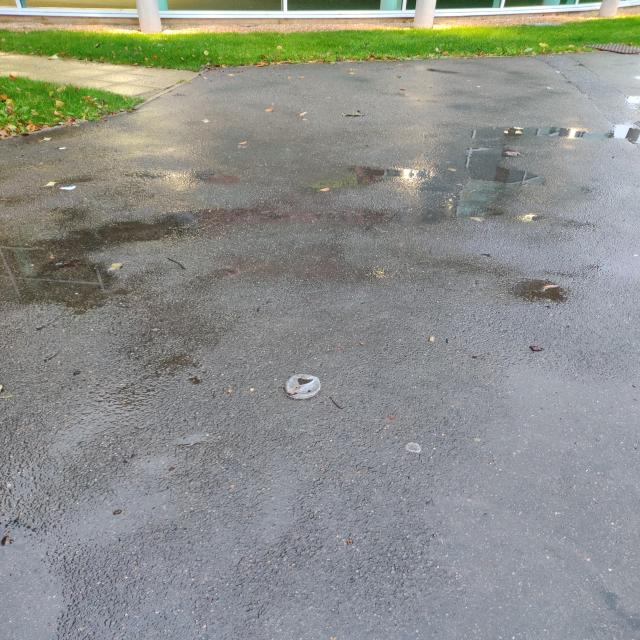litter: (284, 372, 324, 399)
